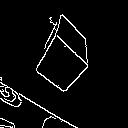cube: (29, 11, 97, 100)
